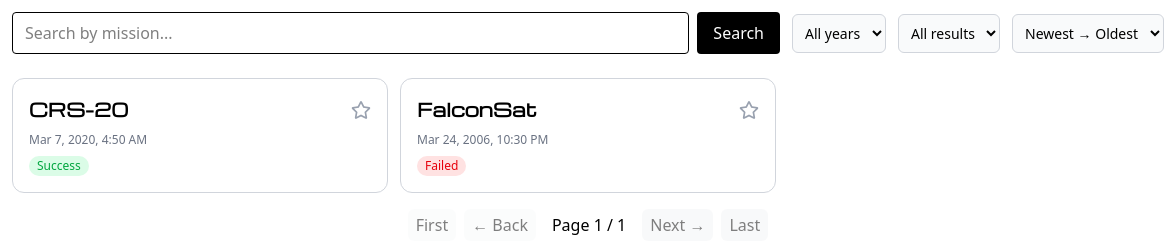
Test: LaunchList – search filtering (debounce-safe) › renders initial list, applies search, and hides non-matching items
Expected: the link "FalconSat" is shown, [417, 96, 537, 122]
Expected: the link "CRS-20" is shown, [29, 96, 128, 122]
Type search query
Step 1. Type "CRS-20" into the field labelled "Search by mission..." → (351, 33), box [12, 12, 689, 54]
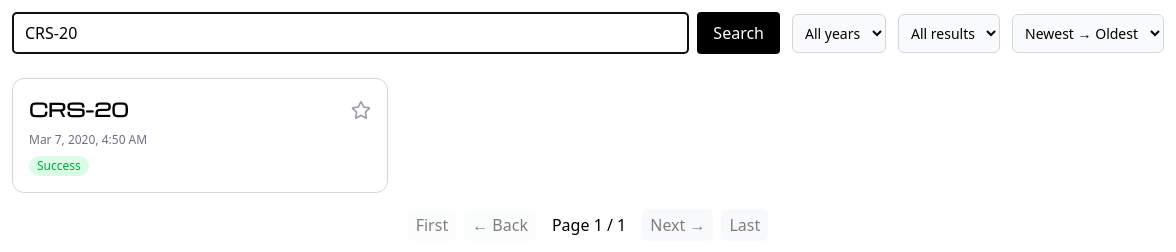
Expected: the link "CRS-20" is shown, [29, 96, 128, 122]
Now the link "FalconSat" is gone
